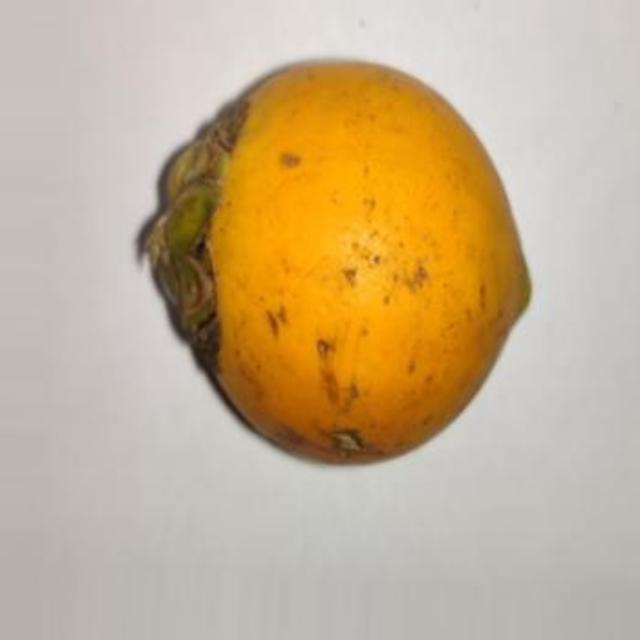good: (148, 60, 532, 466)
